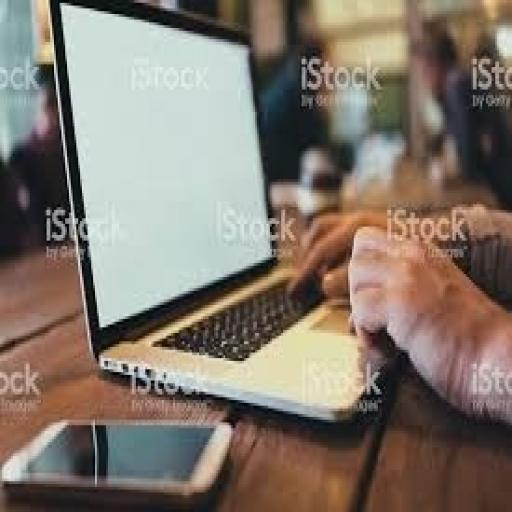using_laptop: (42, 0, 398, 425)
